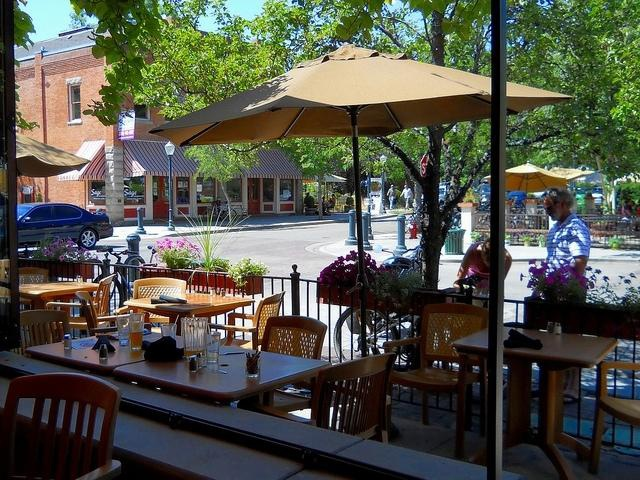non-vehicle: (332, 272, 488, 370), (90, 245, 145, 313), (201, 199, 238, 221)
